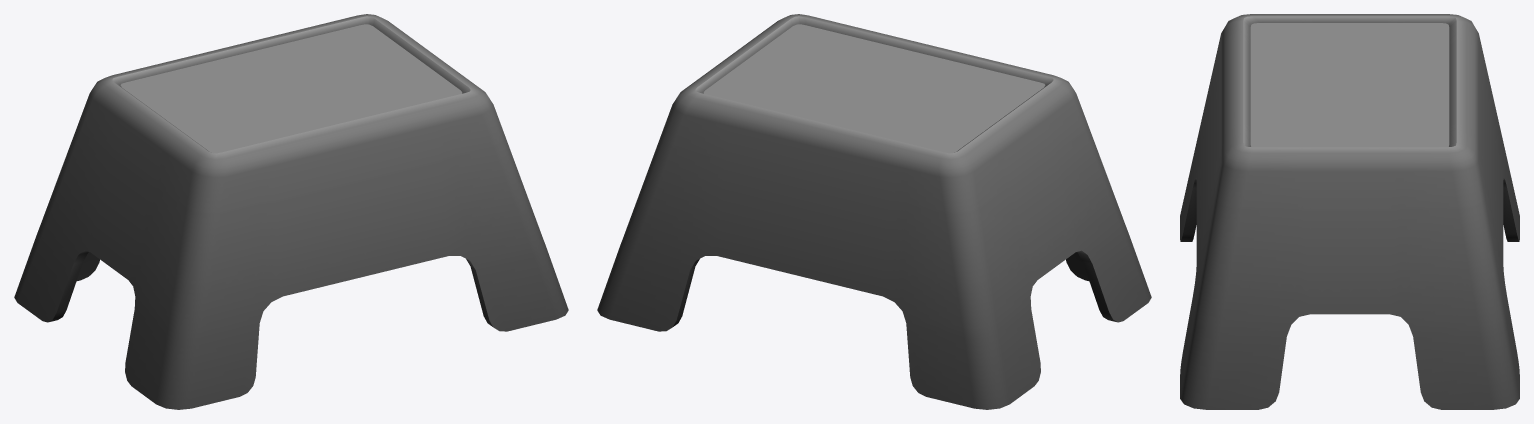
File: Stepping_Stool_t.fbx
3 renders of one model, left to right at view 1: azimuth 30°, elevation 25°; view 2: azimuth 150°, elevation 25°; view 3: azimuth 270°, elevation 25°, orthographic. The views are drawn at different scales.
Parts seen in each view (by area): view 1: polySurface63; view 2: polySurface63; view 3: polySurface63.
Part boxes in pixels (x1,y1,x2,y2): polySurface63: [14, 14, 568, 409]; polySurface63: [597, 14, 1151, 409]; polySurface63: [1180, 14, 1519, 409].
Bounding box in the file's own units: 0.6441 × 0.3291 × 0.4495.
1 material, 1 textured.
